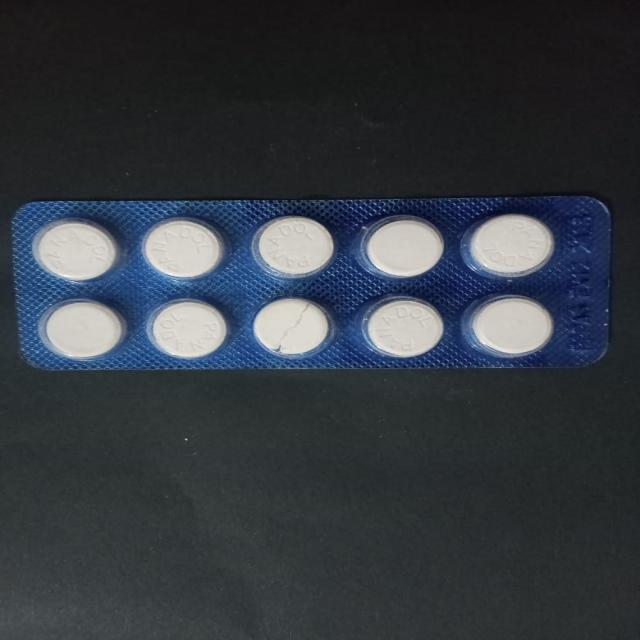defect: (250, 294, 341, 362)
